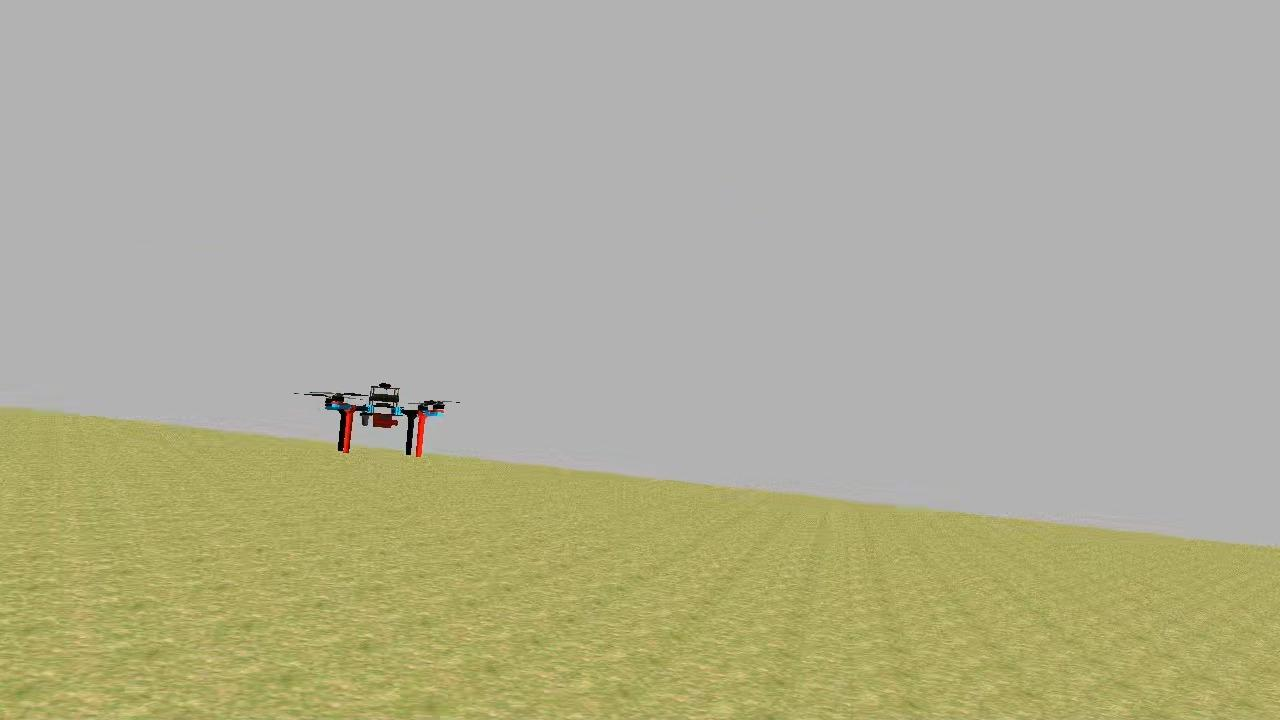UAV: (317, 377, 452, 464)
